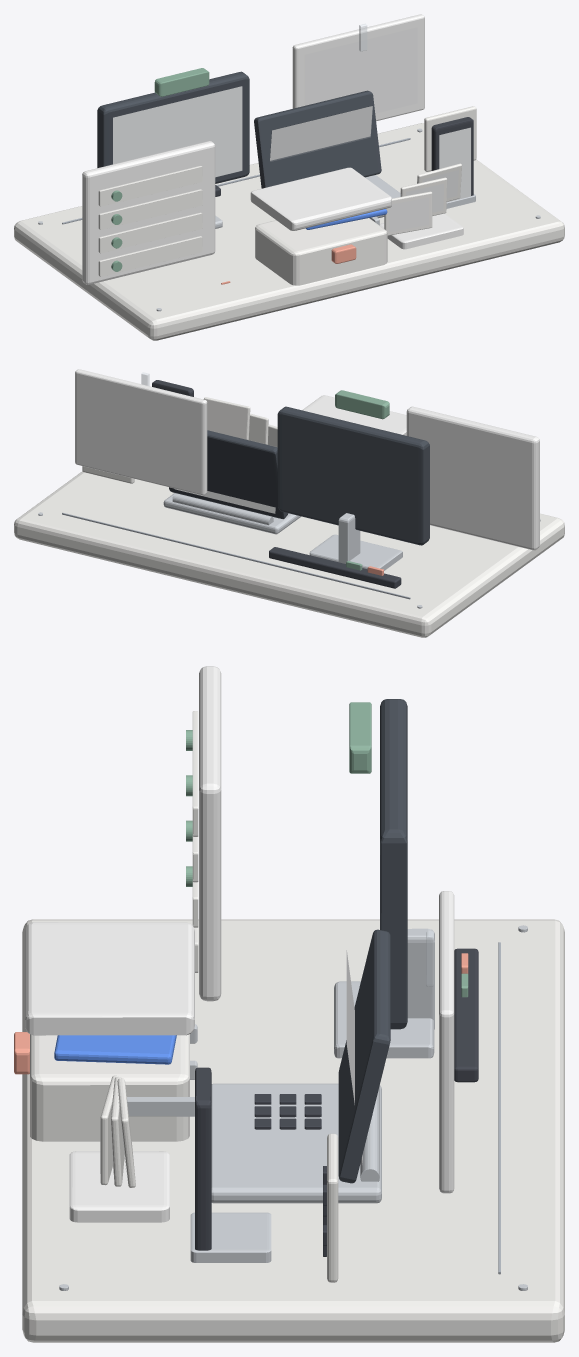
Rendered from release.glb.
3 views of the same model, one above another, from view 1: azimuth 30°, elevation 25°; view 2: azimuth 150°, elevation 25°; view 3: azimuth 270°, elevation 25° (orthographic). The views are drawn at different scales.
Parts seen in each view (by area): view 1: REL_delivery_station, REL_qa_panel, SCREEN_release_monitor, GLASS_release_monitor, PRINT_release_device, REL_archive_box, REL_devices, REL_archive_lid, REL_monitor_frame, REL_projection_frame, GLASS_release_laptop, SCREEN_release_laptop (+16 smaller); view 2: REL_delivery_station, REL_monitor_frame, REL_qa_panel, REL_projection_frame, REL_devices, REL_cable_channel, REL_archive_lid, REL_monitor_foot, REL_project_card_2, REL_laptop_base, REL_live_state, REL_laptop_hinge (+5 smaller); view 3: REL_delivery_station, REL_archive_lid, REL_laptop_base, REL_archive_box, REL_monitor_frame, REL_devices, REL_qa_panel, REL_project_rack, REL_projection_frame, REL_phone_stand, REL_release_folder, REL_phone_frame (+13 smaller).
Boxes of the visible parts, <box> form: REL_delivery_station: <box>14,123,564,340</box>; REL_qa_panel: <box>82,141,215,284</box>; SCREEN_release_monitor: <box>113,86,242,177</box>; GLASS_release_monitor: <box>113,87,242,176</box>; PRINT_release_device: <box>304,27,417,113</box>; REL_archive_box: <box>255,218,387,285</box>; REL_devices: <box>254,90,381,188</box>; REL_archive_lid: <box>250,167,391,230</box>; REL_monitor_frame: <box>97,71,249,183</box>; REL_projection_frame: <box>292,14,424,121</box>; GLASS_release_laptop: <box>270,106,372,161</box>; SCREEN_release_laptop: <box>270,106,372,160</box>; REL_delivery_station: <box>14,471,564,637</box>; REL_monitor_frame: <box>277,406,429,545</box>; REL_qa_panel: <box>406,406,539,550</box>; REL_projection_frame: <box>75,369,207,495</box>; REL_devices: <box>169,430,288,519</box>; REL_cable_channel: <box>269,547,401,588</box>; REL_archive_lid: <box>302,395,406,435</box>; REL_monitor_foot: <box>309,534,402,570</box>; REL_project_card_2: <box>203,397,250,439</box>; REL_laptop_base: <box>163,493,301,534</box>; REL_live_state: <box>335,390,389,419</box>; REL_laptop_hinge: <box>172,493,273,525</box>; REL_delivery_station: <box>22,919,564,1342</box>; REL_archive_lid: <box>25,922,194,1035</box>; REL_laptop_base: <box>211,1083,381,1203</box>; REL_archive_box: <box>30,1034,189,1141</box>; REL_monitor_frame: <box>380,699,407,1029</box>; REL_devices: <box>338,929,390,1183</box>; REL_qa_panel: <box>199,666,221,1001</box>; REL_project_rack: <box>69,1151,169,1222</box>; REL_projection_frame: <box>439,891,454,1193</box>; REL_phone_stand: <box>190,1212,271,1262</box>; REL_release_folder: <box>54,1035,176,1064</box>; REL_phone_frame: <box>195,1067,211,1250</box>.
Size of the model in its own units: 7.01 by 2.71 by 3.96.
